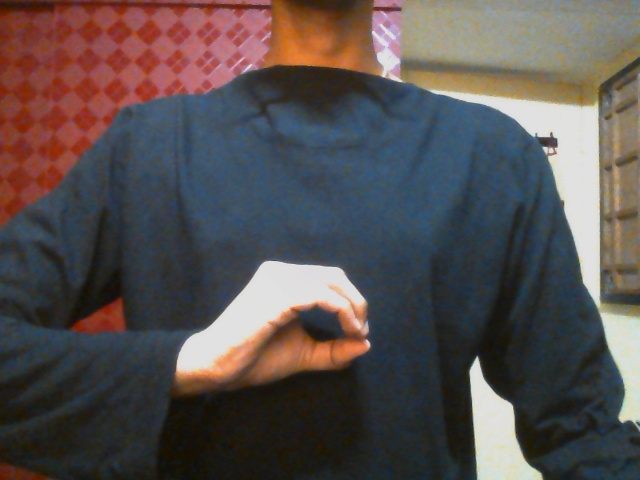O: (207, 258, 374, 403)
